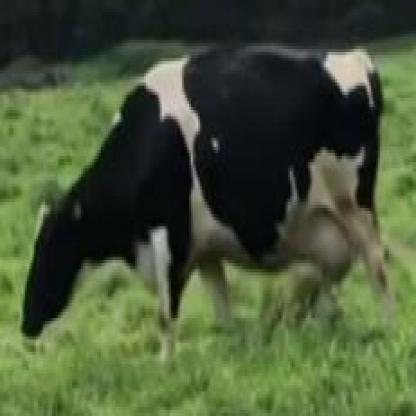cow: (21, 52, 388, 340)
